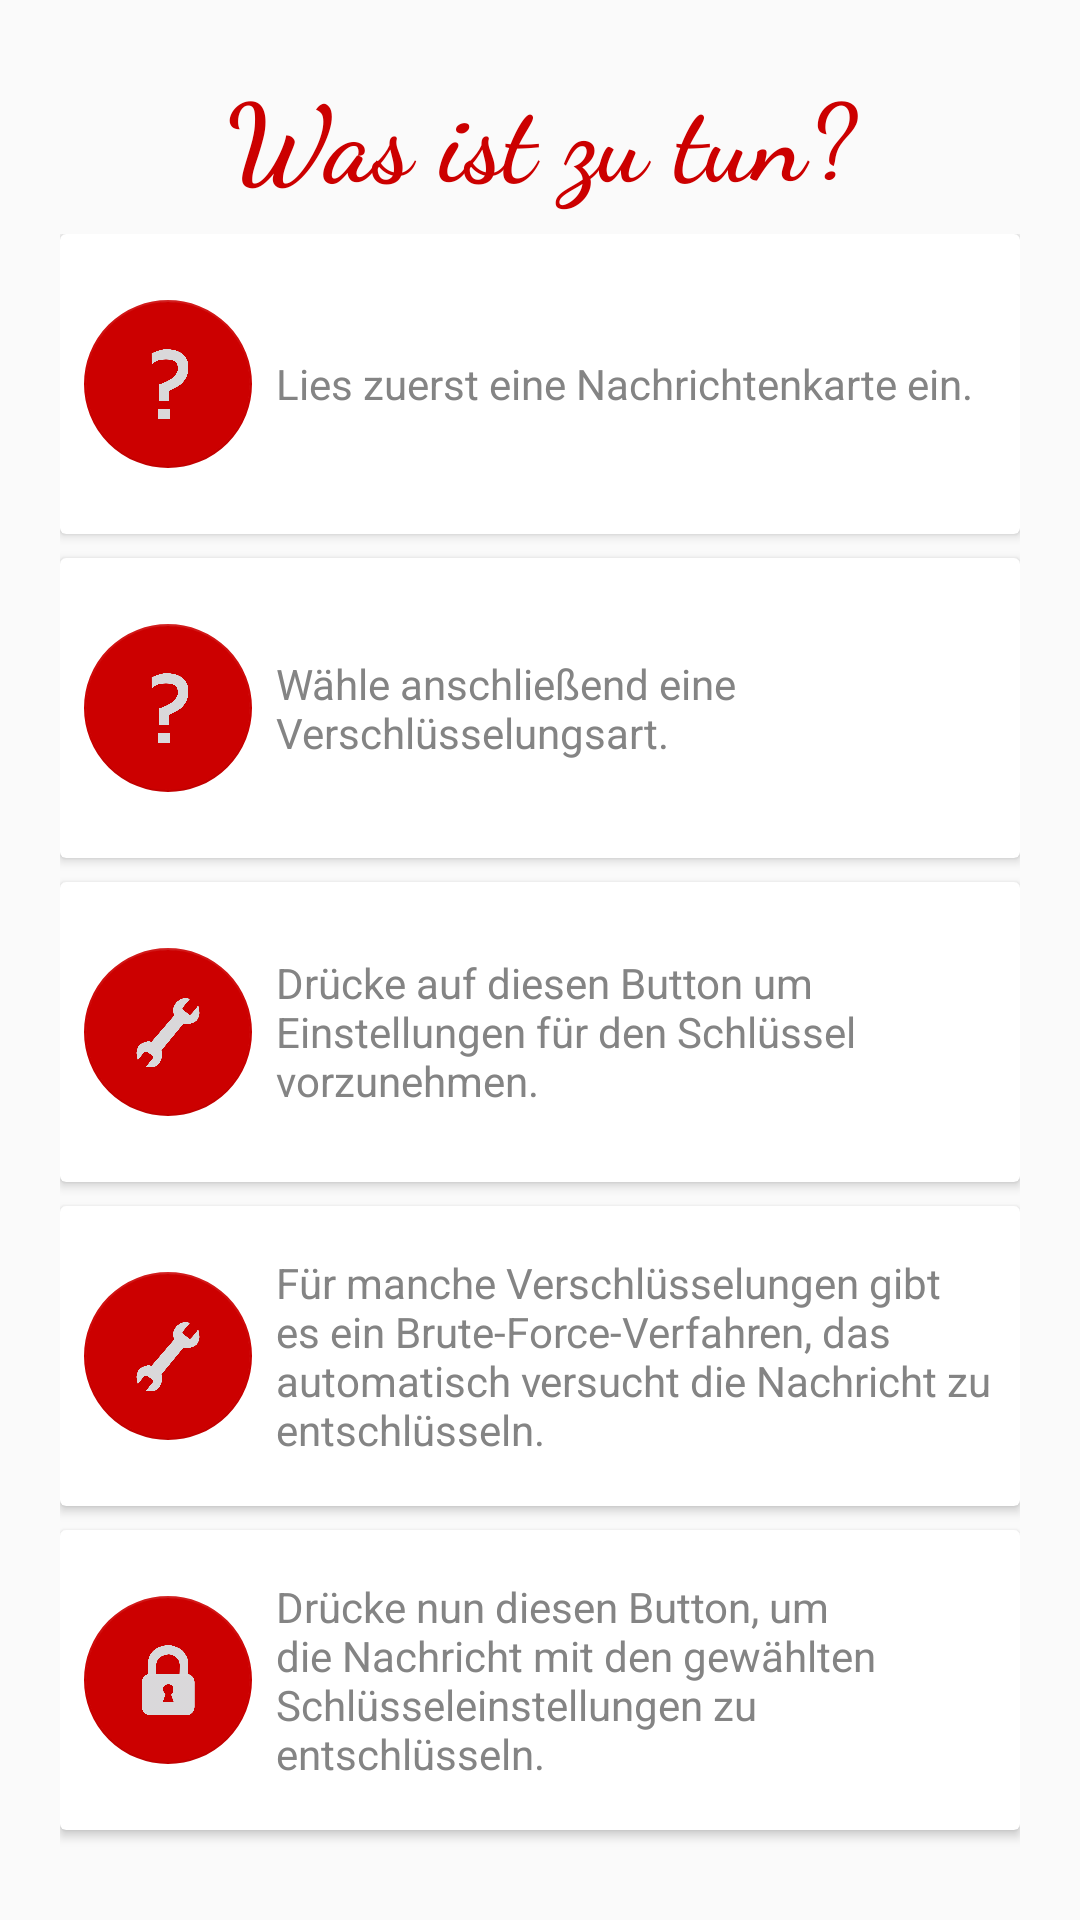

Icons on this 1080×1920 Android screen, each with its box as box=[x1, y1, x2, y2]:
help: box=[84, 300, 252, 468], box=[84, 624, 252, 792]
lock: box=[84, 1596, 252, 1764]
wrench: box=[84, 948, 252, 1116], box=[84, 1272, 252, 1440]
